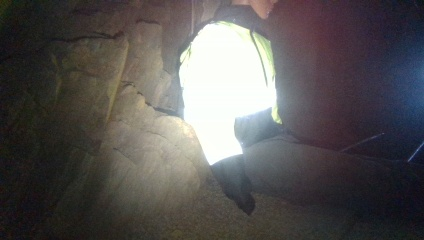manikin: (179, 2, 421, 221)
